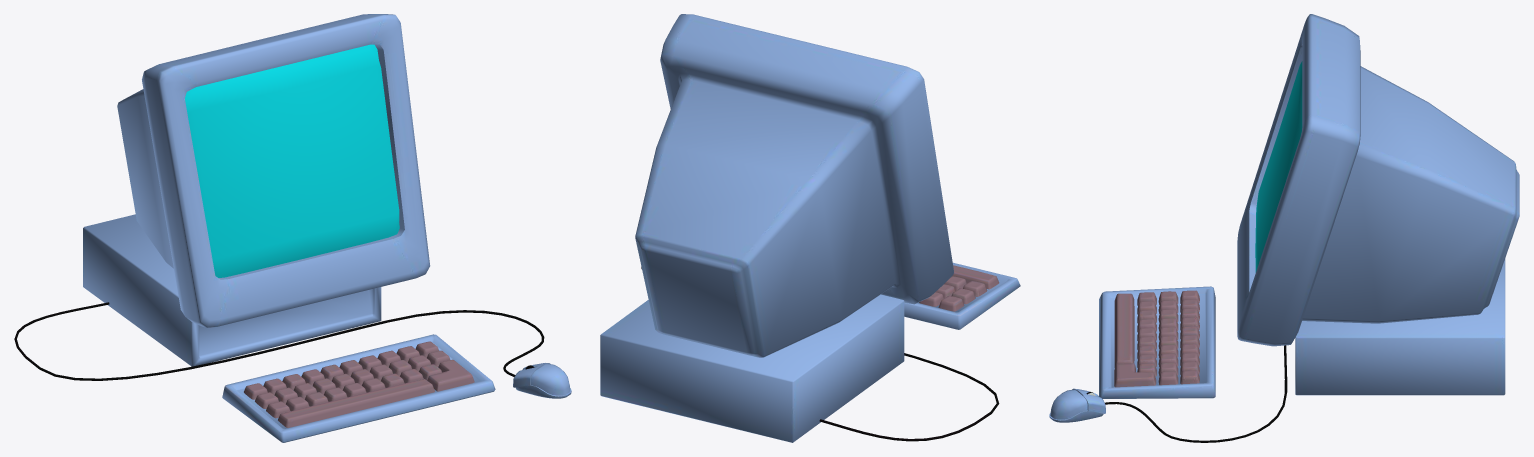
3 renders of one model, left to right at view 1: azimuth 30°, elevation 25°; view 2: azimuth 150°, elevation 25°; view 3: azimuth 270°, elevation 25°, orthographic. The views are drawn at different scales.
Parts seen in each view (by area): view 1: PC; view 2: PC; view 3: PC.
Part boxes in pixels (<box>): PC: <box>14,14,571,442</box>; PC: <box>600,14,1020,442</box>; PC: <box>1049,14,1519,442</box>.
Bounding box in the file's own units: 1.15 × 0.7879 × 1.18.
1 material, 1 textured.
